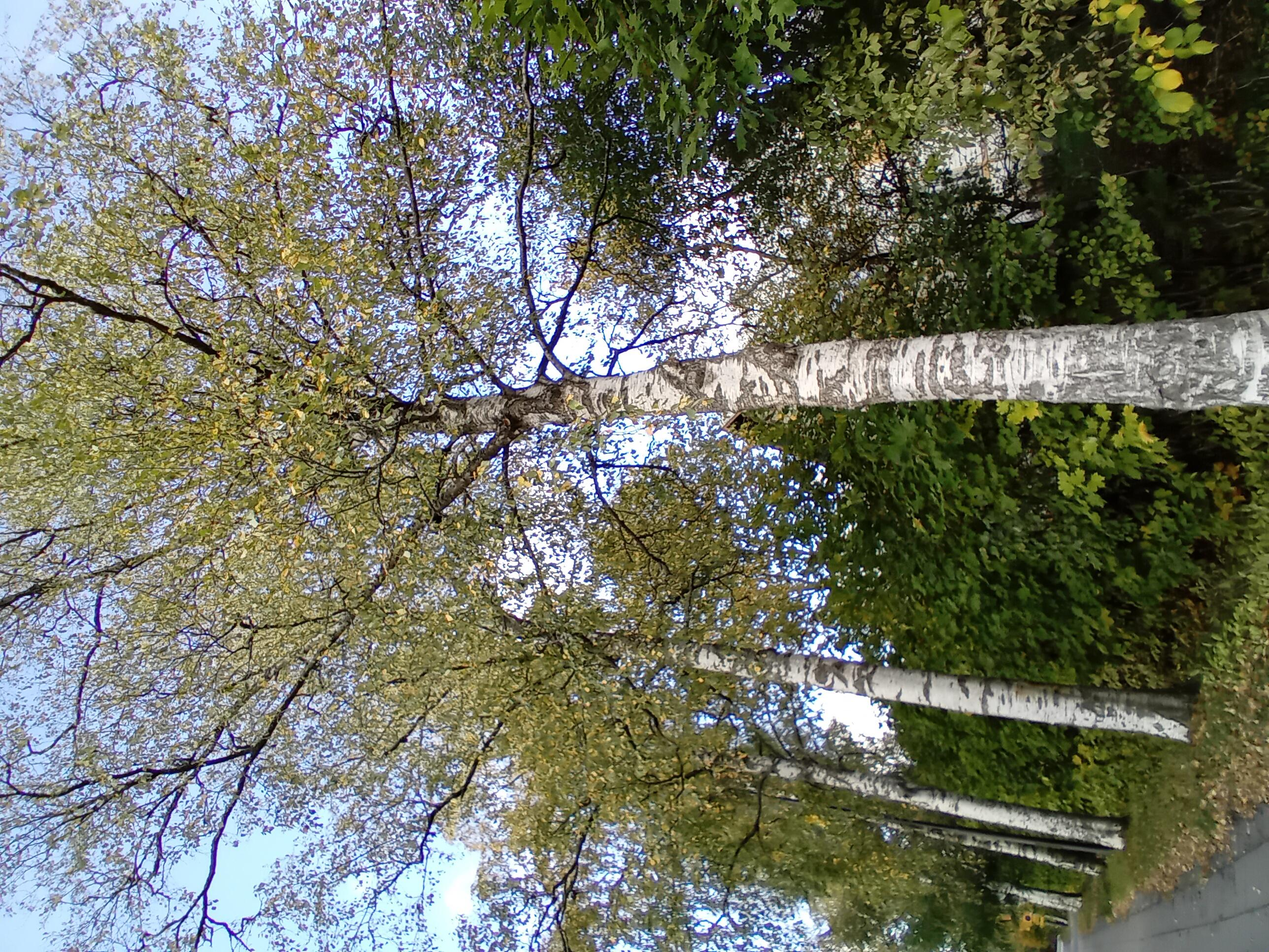Birch: (2, 1, 1267, 949), (516, 34, 970, 952), (615, 124, 972, 952), (106, 327, 515, 908), (40, 494, 289, 862), (345, 117, 345, 807)
